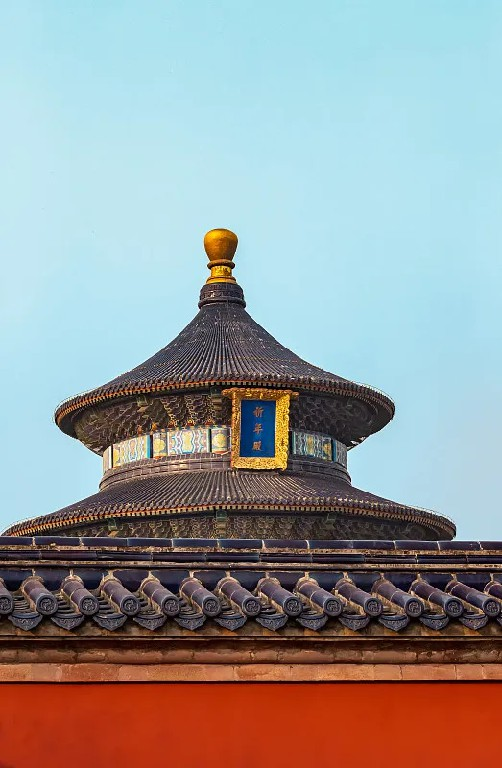Heaven: (3, 227, 465, 539)
